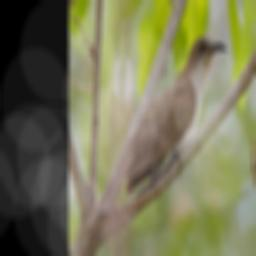Cuckoo: (125, 36, 230, 199)
